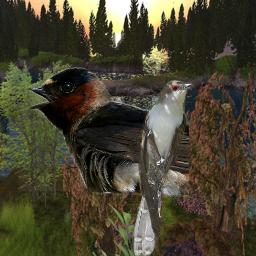Cuckoo: (131, 78, 198, 256)
Swallow: (24, 67, 189, 197)
